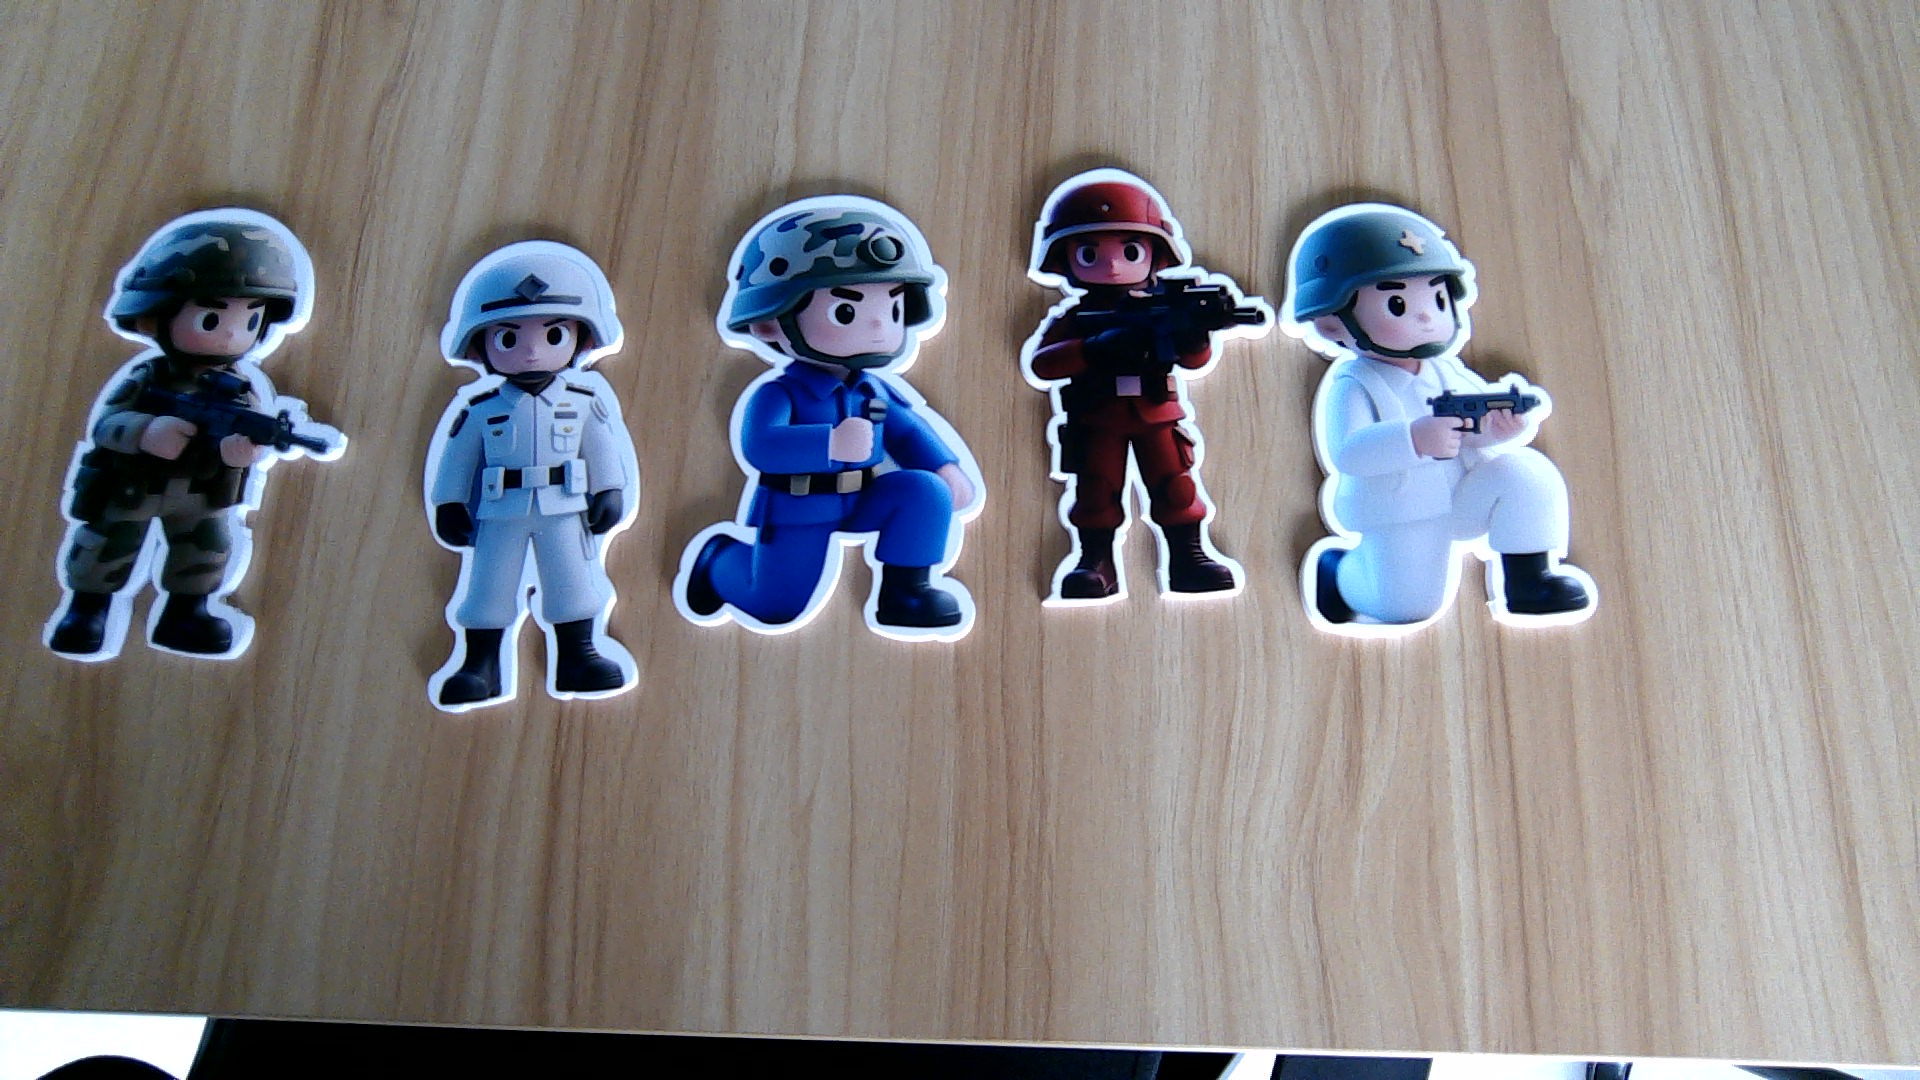人质: (1292, 369, 1598, 657), (415, 378, 647, 708)
友军: (41, 363, 349, 657)
敌人1: (1010, 285, 1271, 612)
敌人2: (669, 367, 986, 651)
